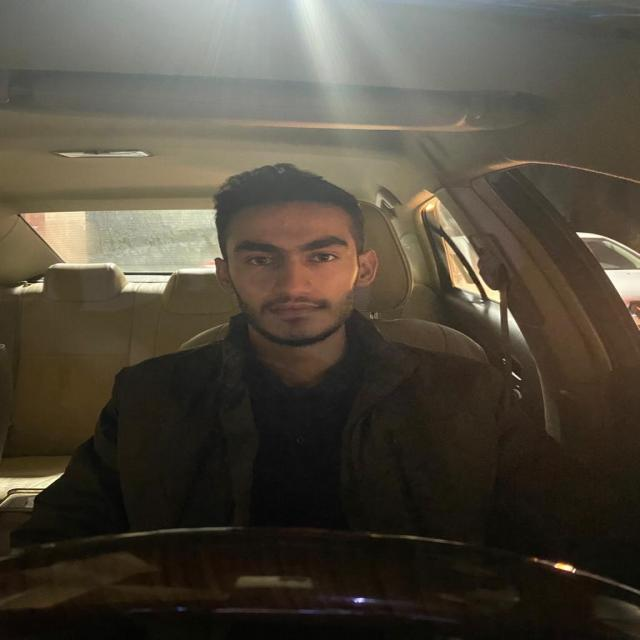person: (213, 170, 375, 346)
